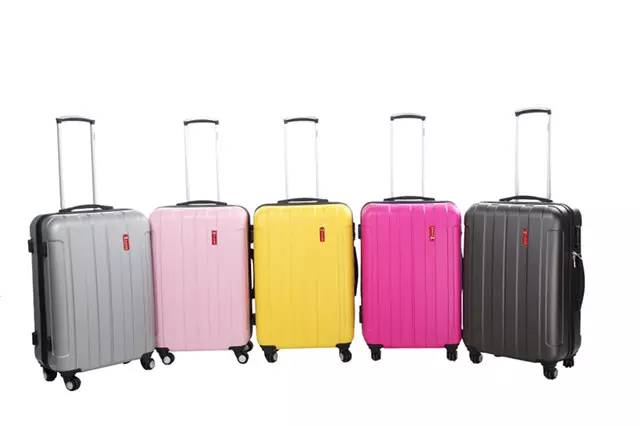luggage: (26, 116, 156, 392), (462, 104, 587, 380), (150, 117, 252, 365), (253, 117, 355, 365), (359, 113, 461, 361)
